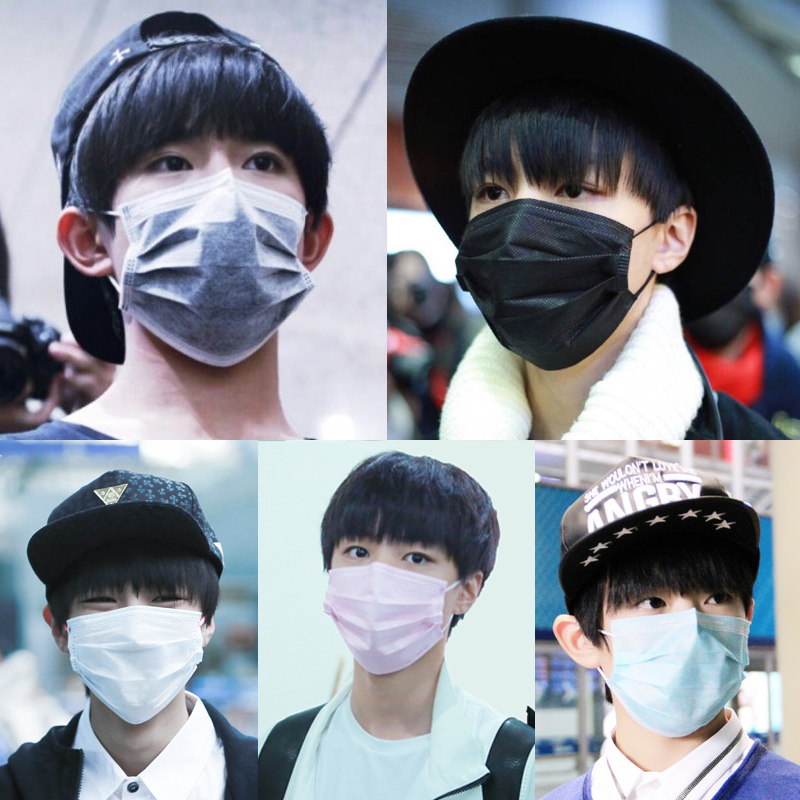face_mask: (120, 86, 307, 360), (461, 98, 645, 369), (603, 543, 750, 726), (65, 544, 201, 719), (327, 508, 458, 678)
